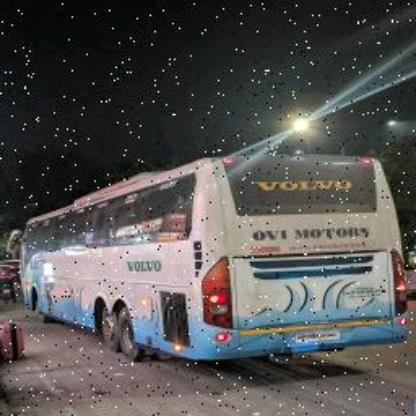bus: (12, 148, 416, 370)
